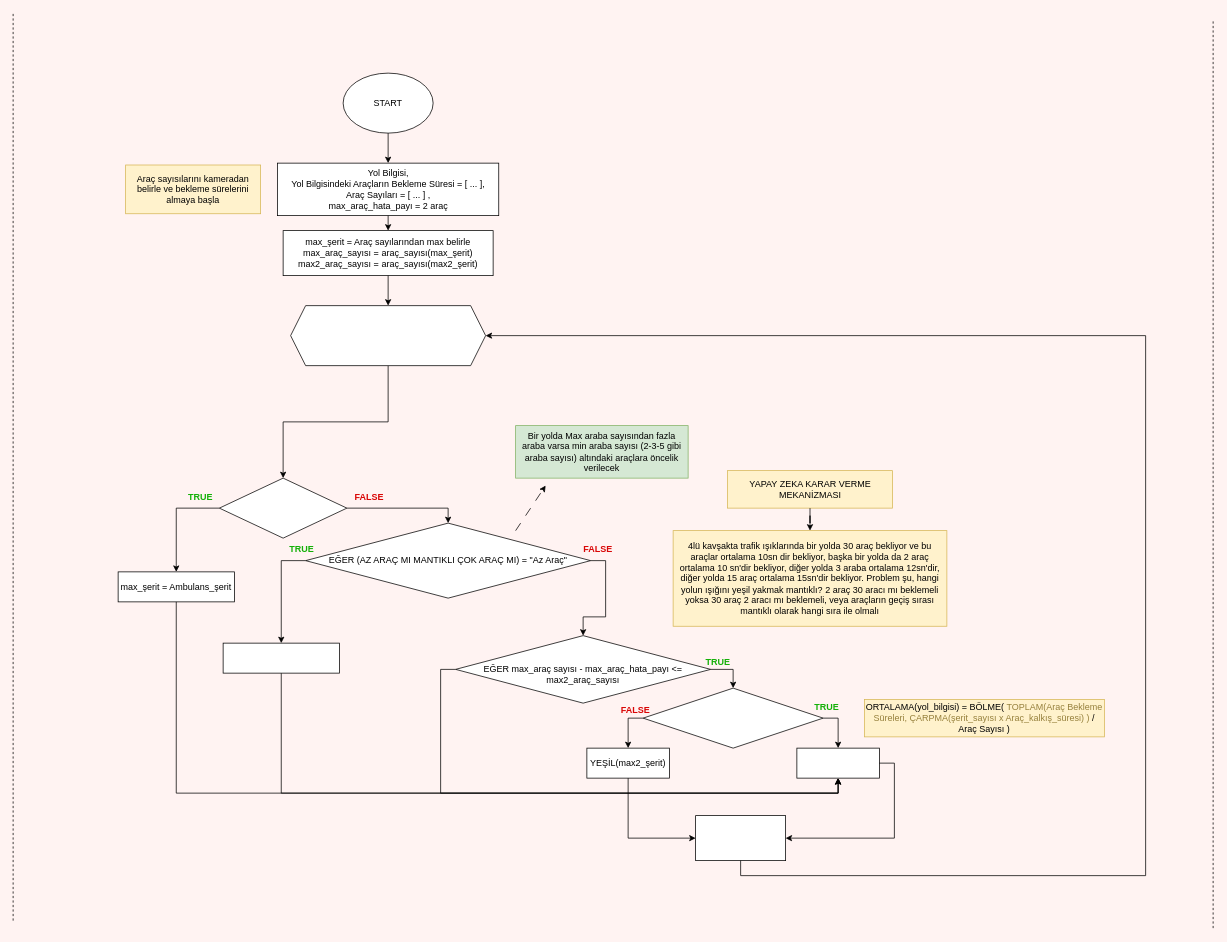
Image size: 1227x942. Some labels were removed from this diagram. Here are the shapes that lost their labels. From the top down, the box of each, then its label:
(290, 305, 486, 366): TRAFİK SENARYOSU
(219, 477, 347, 538): AMBULANS VAR MI
(222, 642, 339, 673): max_şerit = min_şerit
(642, 687, 823, 748): ORTALAMA(max_şerit) >= ORTALAMA(max2_şerit)
(796, 747, 879, 778): YEŞİL(max_şerit)
(695, 815, 786, 861): YELLOW(şerit)
